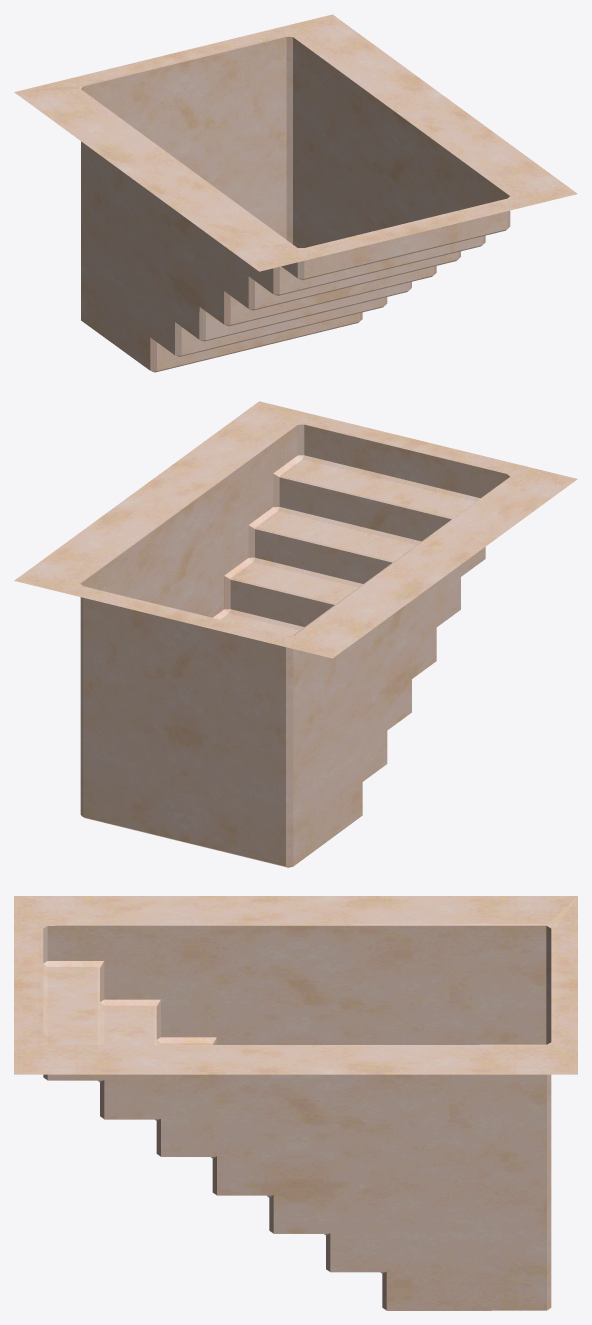
Rendered from sandbombbasestairs.dae.
3 views of the same model, one above another, from view 1: azimuth 30°, elevation 25°; view 2: azimuth 150°, elevation 25°; view 3: azimuth 270°, elevation 25° (orthographic). The views are drawn at different scales.
Visible parts, largest first — view 1: m0; view 2: m0; view 3: m0.
Boxes of the visible parts, box(x1,y1,x2,y2) form: m0: box(14, 14, 577, 372); m0: box(14, 401, 577, 867); m0: box(14, 896, 577, 1310).
Size of the model in its own units: 1200 by 843 by 1600.
1 material, 1 textured.
